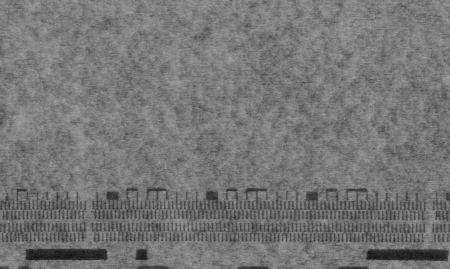Oblique printing: (432, 210, 444, 223)
